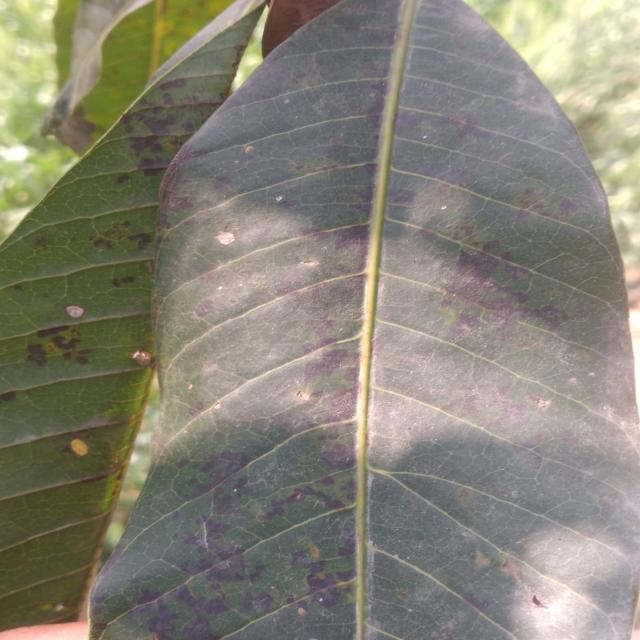Powdery Mildew: (64, 304, 87, 317), (215, 231, 235, 245)
black die: (183, 480, 265, 571), (129, 107, 184, 166), (39, 325, 94, 367), (301, 553, 342, 609), (25, 344, 57, 366)
